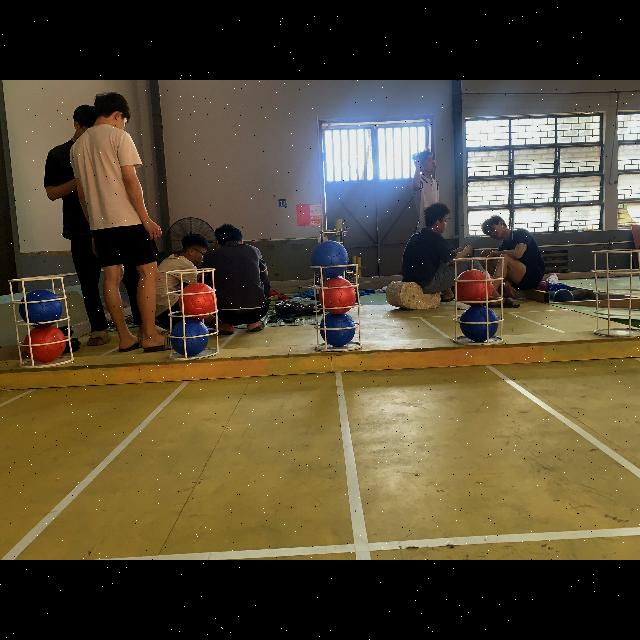B: (18, 289, 62, 329), (311, 239, 349, 279), (170, 319, 210, 357), (320, 312, 356, 348), (461, 306, 499, 340)
R: (24, 323, 68, 362), (318, 278, 358, 316), (179, 283, 217, 321), (454, 270, 494, 306)
